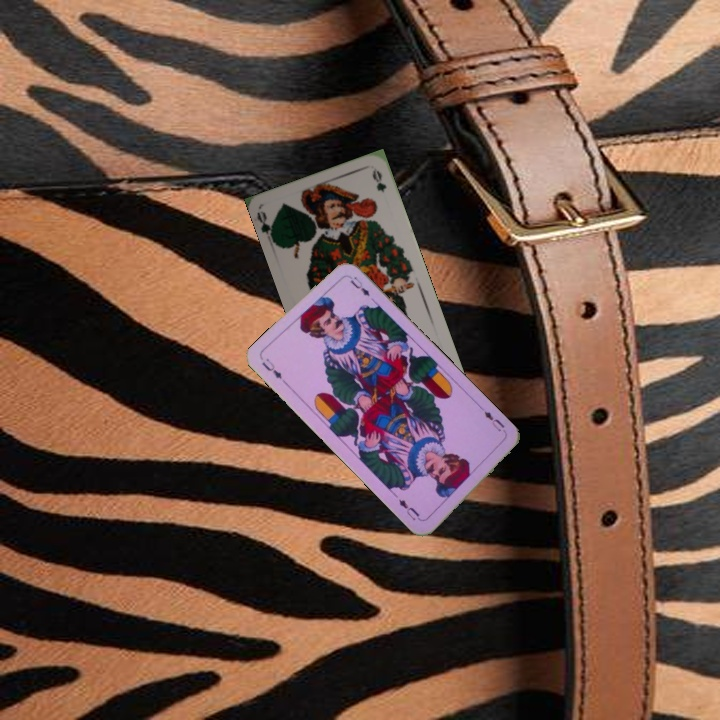EU: (480, 407, 509, 438), (258, 354, 285, 381)
GO: (253, 207, 278, 248)
